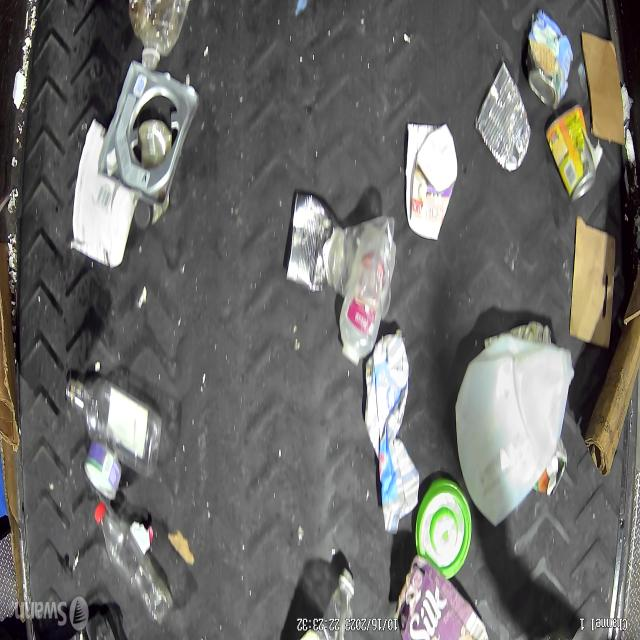can: (476, 64, 530, 172), (288, 189, 341, 293), (546, 105, 599, 204), (524, 9, 574, 113), (84, 442, 122, 500)
milk_jug: (454, 330, 573, 528)
non_white_jug: (364, 329, 420, 535), (394, 555, 490, 640)
plastic_bottle: (66, 376, 162, 479), (94, 504, 174, 625), (124, 0, 198, 71), (301, 567, 354, 640)
